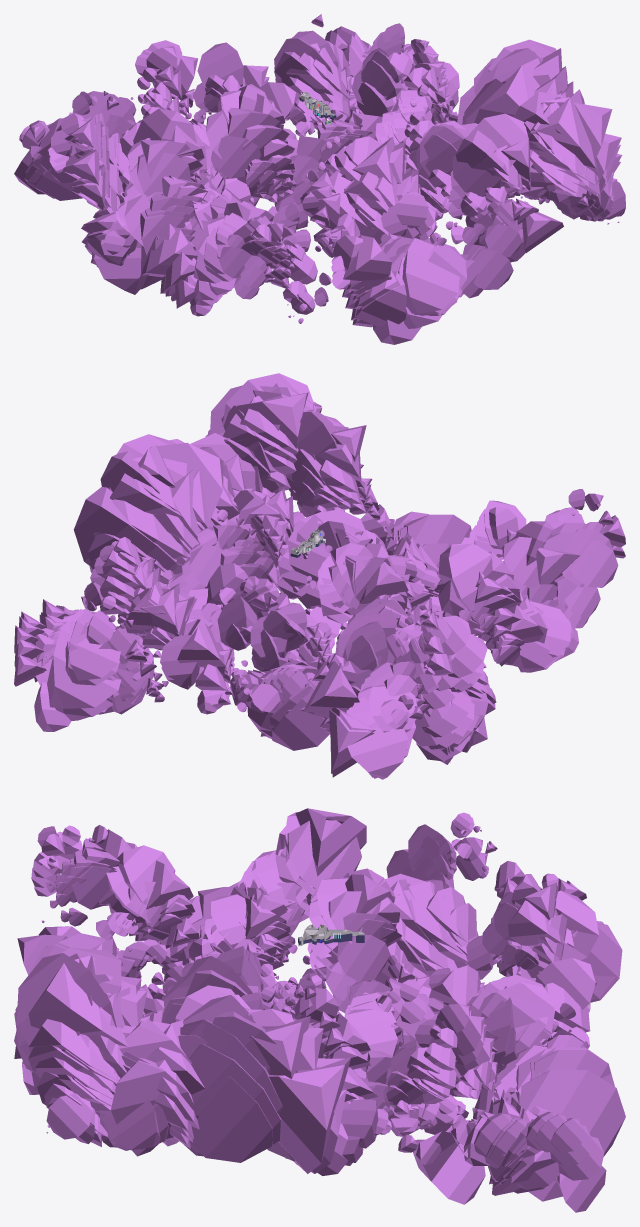
Rendered from asleep.138f3e0e.glb.
The picture shows the model from 3 angles, top to bottom: view 1: azimuth 30°, elevation 25°; view 2: azimuth 150°, elevation 25°; view 3: azimuth 270°, elevation 25°; orthographic projection. The views are drawn at different scales.
Parts seen in each view (by area): view 1: gridscape; view 2: gridscape; view 3: gridscape.
Part boxes in pixels (x1,y1,x2,y2): gridscape: [14, 14, 625, 344]; gridscape: [14, 373, 625, 779]; gridscape: [14, 808, 625, 1212].
Bounding box in the file's own units: 352 × 160 × 342.
